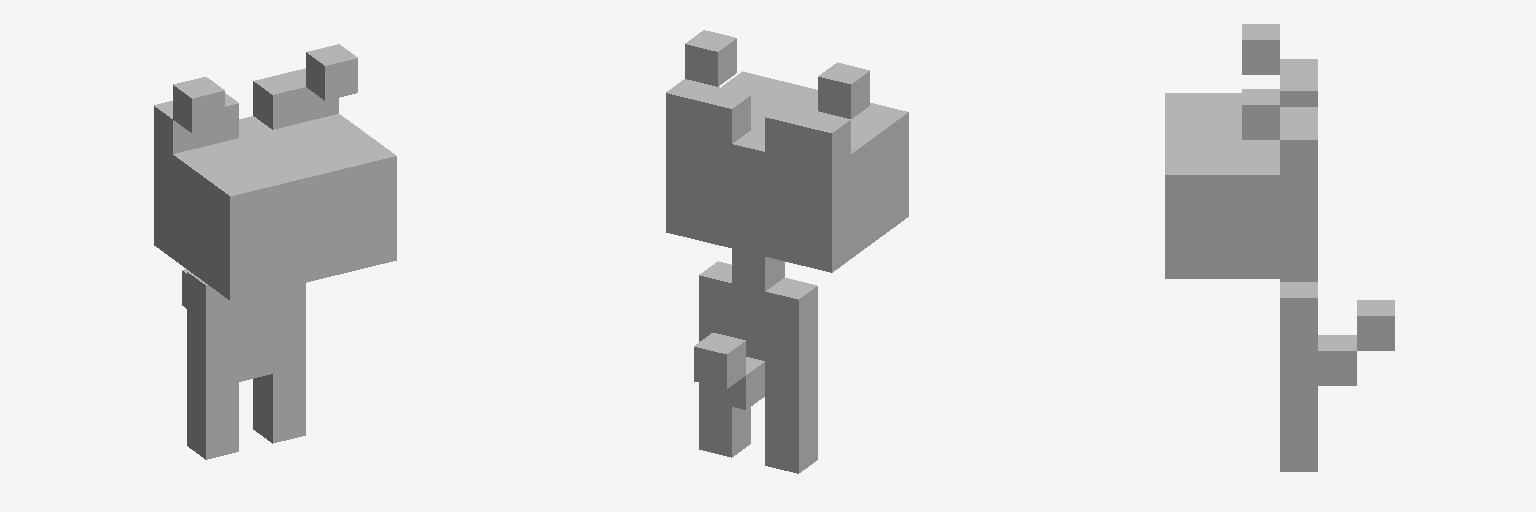
Rendered from char-pig-11x11.obj.
3 views of the same model, side by side, from view 1: azimuth 30°, elevation 25°; view 2: azimuth 150°, elevation 25°; view 3: azimuth 270°, elevation 25° (orthographic).
Visible parts, largest first — view 1: object 1; view 2: object 1; view 3: object 1.
Part boxes in pixels (bbox=[...]): object 1: bbox=[154, 44, 396, 459]; object 1: bbox=[666, 30, 908, 473]; object 1: bbox=[1165, 24, 1394, 471].
Size of the model in its own units: 0.5 by 1.1 by 0.6.